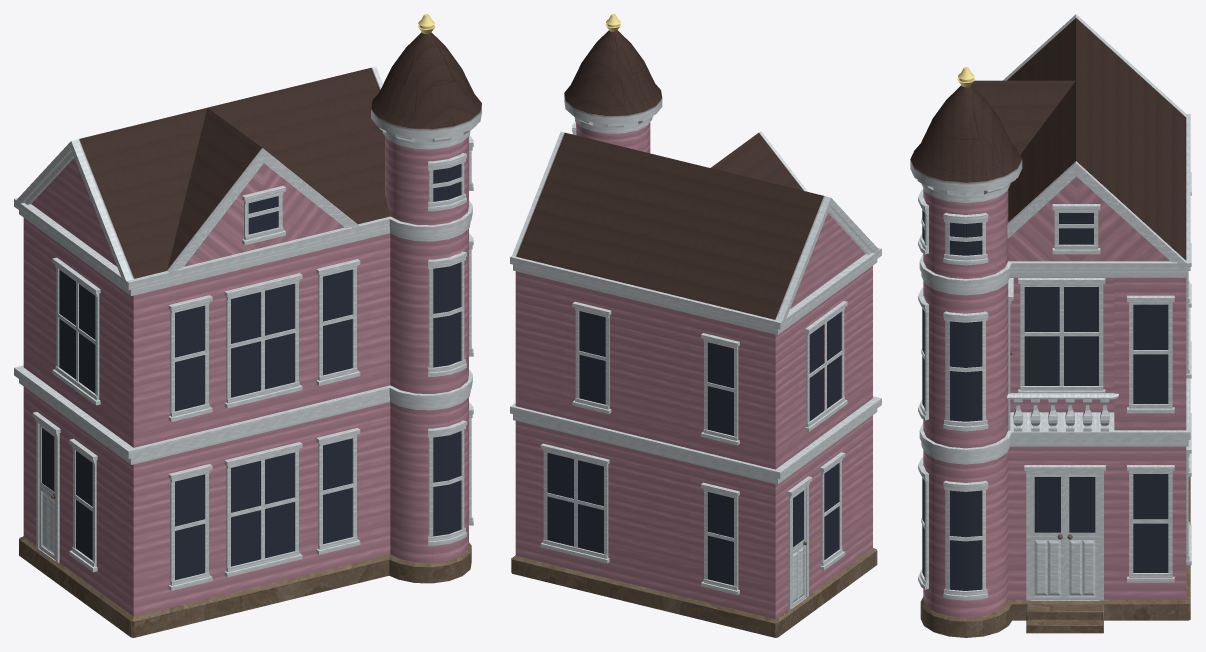
Rendered from house_red_v2.glb.
3 renders of one model, left to right at view 1: azimuth 30°, elevation 25°; view 2: azimuth 150°, elevation 25°; view 3: azimuth 270°, elevation 25°, orthographic. The views are drawn at different scales.
Parts seen in each view (by area): view 1: Circle; view 2: Circle; view 3: Circle.
Boxes of the visible parts, left/top/right/bottom form: Circle: left=14, top=14, right=481, bottom=637; Circle: left=510, top=14, right=881, bottom=637; Circle: left=910, top=14, right=1191, bottom=637.
Bounding box in the file's own units: 9.52 × 14.31 × 6.64.
1 material, 1 textured.
